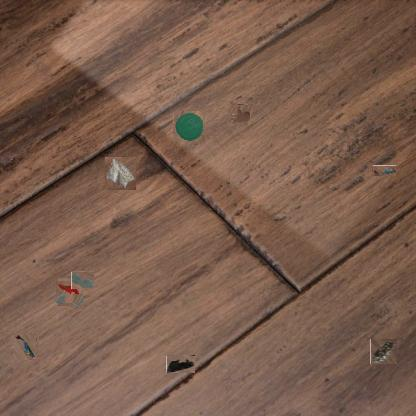dirty: (104, 156, 136, 190), (173, 111, 203, 141), (371, 338, 397, 365), (12, 334, 38, 358), (57, 280, 81, 304), (166, 355, 195, 373), (372, 165, 396, 176)
liquid: (228, 104, 250, 124), (71, 271, 94, 289)
